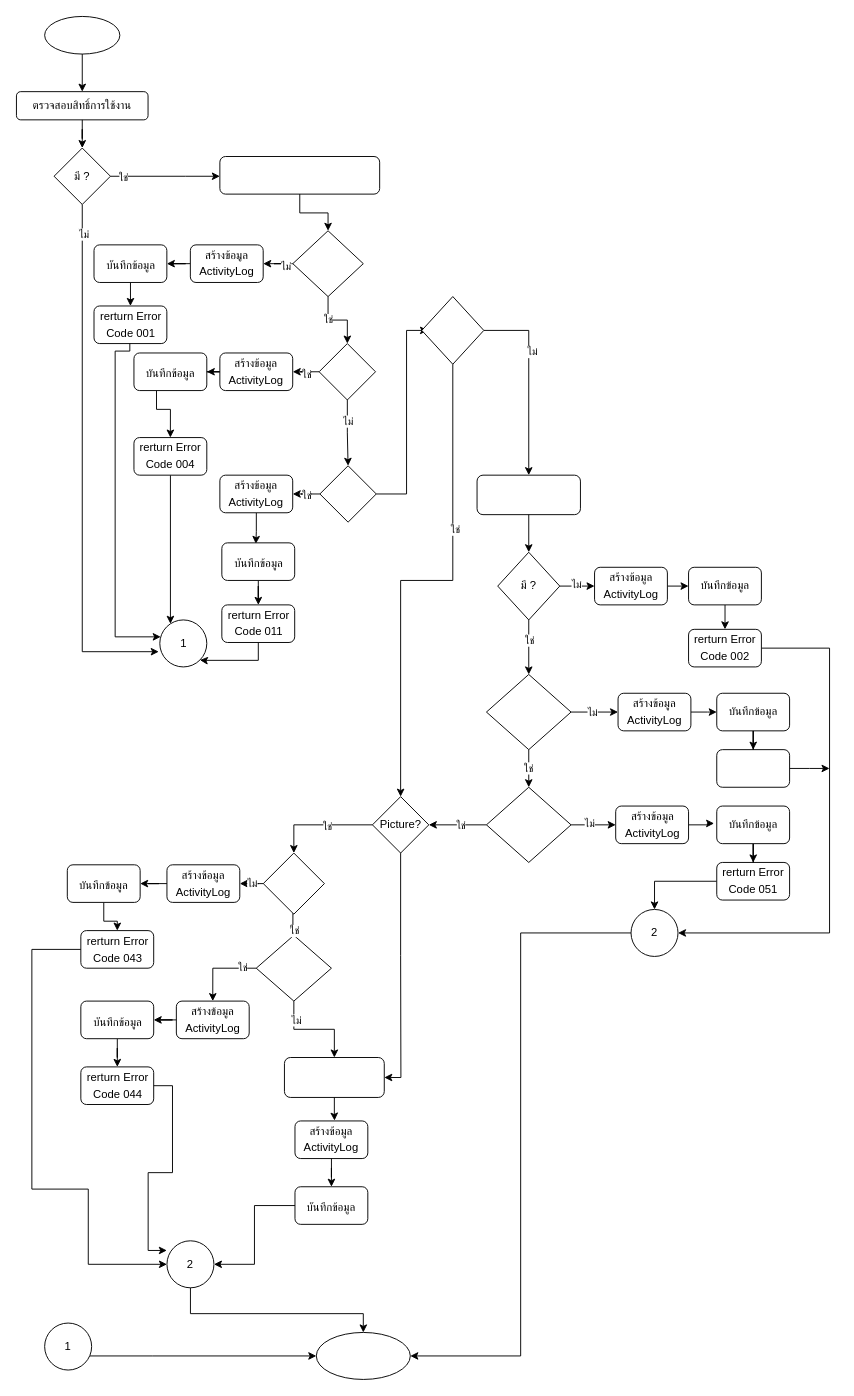
Some shapes in this 854 by 1396 pixel diagram are drawn without their labels. The centre of each missing label's shape, as x and y in pixels:
Company Active ?: the point at 528,824
Company มีในระบบ ไหม ?: the point at 528,712
Locked = 1 ?: the point at 347,493
rerturn Error Code 007: the point at 753,768
status = 1 ?: the point at 347,371
Super Admin ?: the point at 452,330
ขนาดไฟล > 50mb ?: the point at 293,967
ตรวจสอบ Account สถานะการใช้งาน: the point at 299,175
ตรวจสอบสิทธิ์การใช้งาน Company นี้ไหม: the point at 528,494
มีใน ระบบ ?: the point at 327,263
สร้างข้อมูลนักลงทุนสัมพันธ์: the point at 334,1077
สิ้นสุด: the point at 362,1355
เริ่ม: the point at 82,35
ไฟล รูปภาพ ?: the point at 293,883
